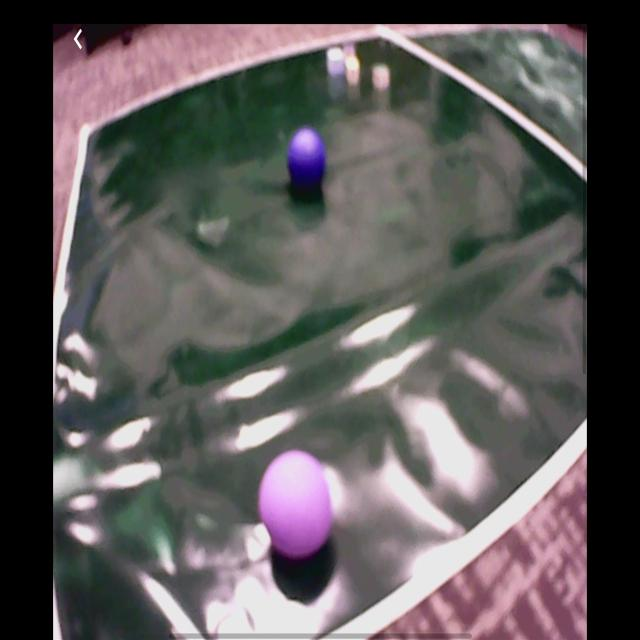ball: (260, 451, 332, 557), (288, 128, 326, 186)
